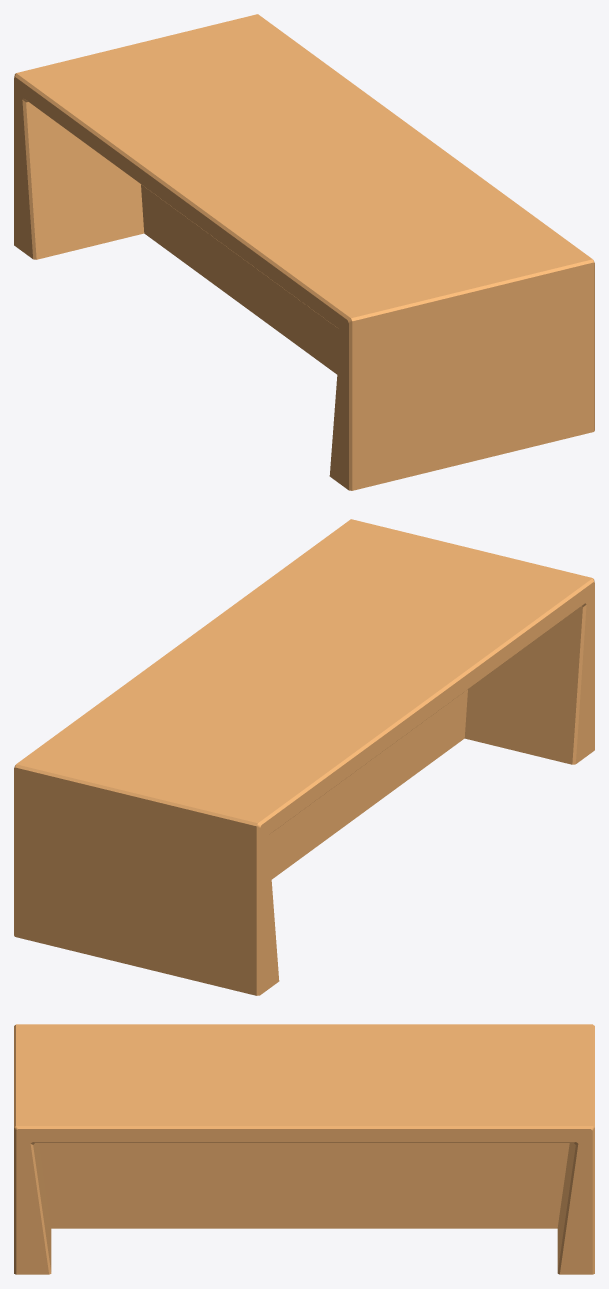
File: desk_7.fbx
3 renders of one model, top to bottom at view 1: azimuth 30°, elevation 25°; view 2: azimuth 150°, elevation 25°; view 3: azimuth 270°, elevation 25°, orthographic. The views are drawn at different scales.
Parts seen in each view (by area): view 1: desk_7; view 2: desk_7; view 3: desk_7.
Boxes of the visible parts, x1,y1,x2,y2 form: desk_7: [14, 14, 594, 490]; desk_7: [14, 519, 594, 995]; desk_7: [14, 1024, 594, 1274].
Size of what is drawn, in the model's own units: 120 by 80.04 by 285.
